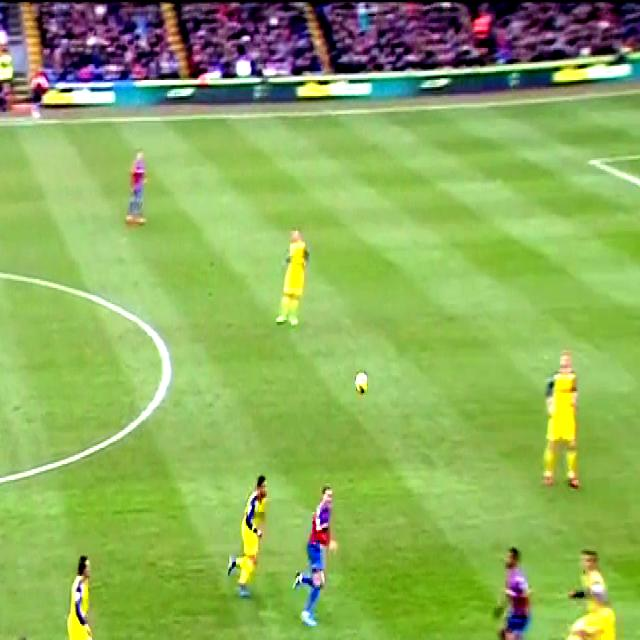ball: (350, 366, 374, 399)
soccer-player: (288, 481, 351, 633), (529, 346, 586, 498), (558, 538, 639, 640), (220, 473, 277, 606), (479, 538, 543, 640), (53, 546, 107, 640), (276, 225, 319, 335), (121, 144, 157, 231), (0, 633, 55, 640)
